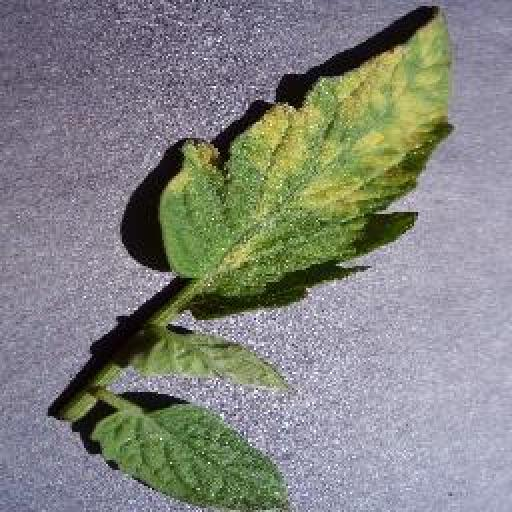Healthy: (89, 397, 292, 512)
Leaf Mold: (160, 2, 458, 322)
